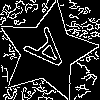A: (22, 27, 79, 83)
